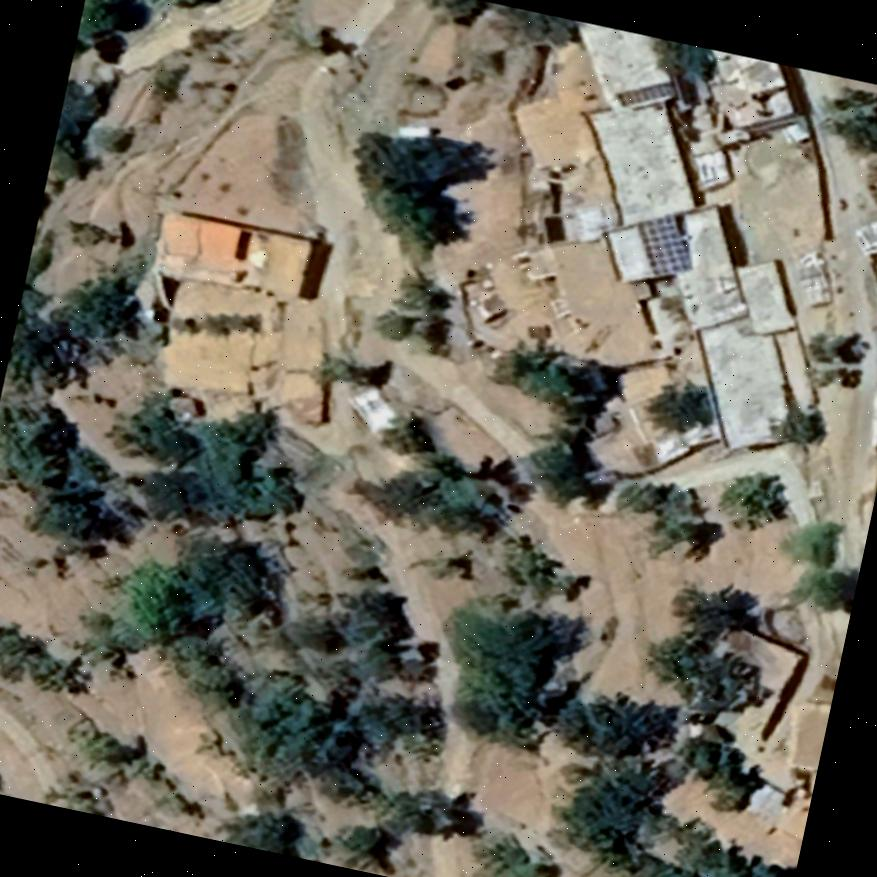Solarpanel: (629, 206, 702, 282), (609, 64, 682, 118)
